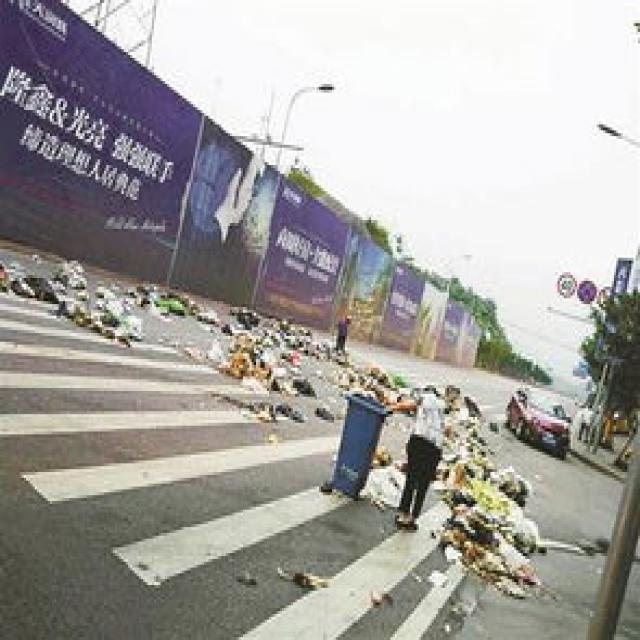garbage: (442, 461, 548, 601), (202, 310, 317, 423), (11, 252, 141, 347), (336, 353, 404, 402), (148, 275, 206, 316)
